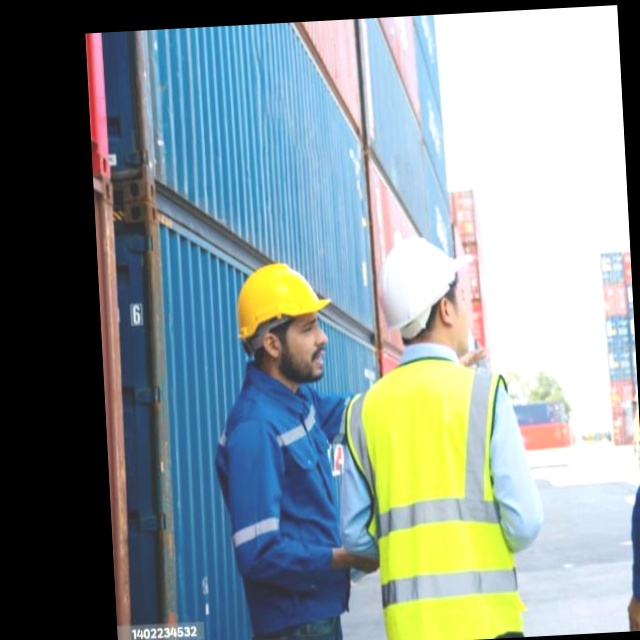Con_Casco: (233, 262, 334, 389), (376, 230, 476, 354)
Con_Chaleco: (343, 358, 534, 640)
